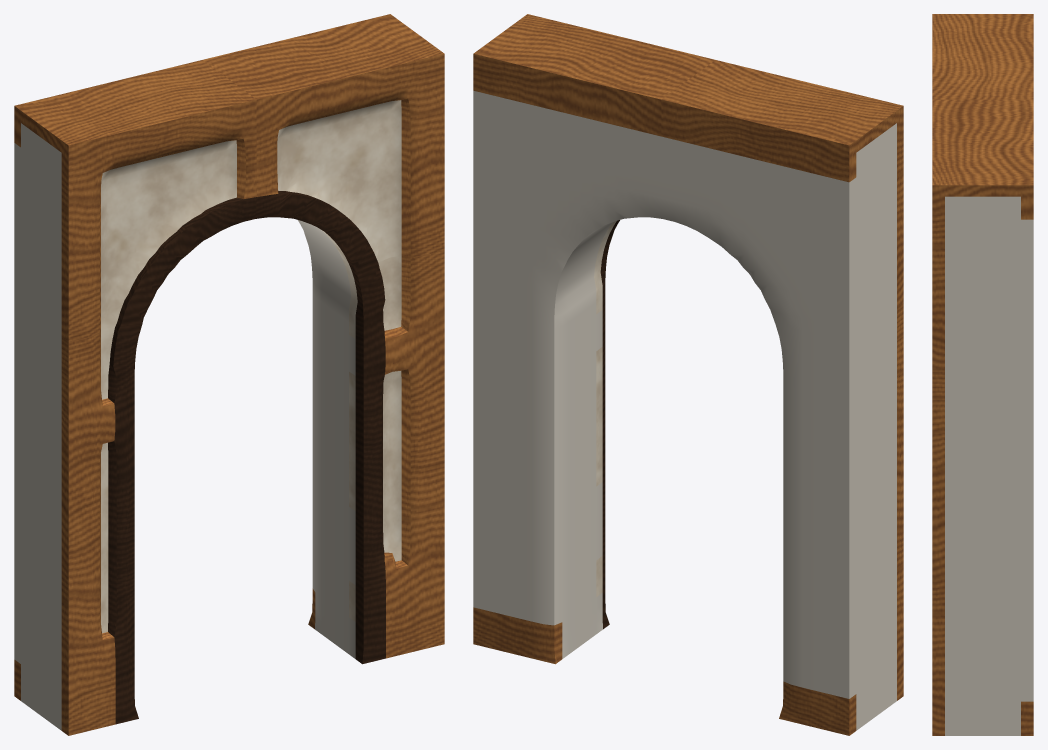
The model's file is wall_out_timber_doorway.glb.
3 views of the same model, side by side, from view 1: azimuth 30°, elevation 25°; view 2: azimuth 150°, elevation 25°; view 3: azimuth 270°, elevation 25° (orthographic). The views are drawn at different scales.
Visible parts, largest first — view 1: town_wall_out_timber_doorway; view 2: town_wall_out_timber_doorway; view 3: town_wall_out_timber_doorway.
Part boxes in pixels (x1,y1,x2,y2): town_wall_out_timber_doorway: [14, 14, 444, 735]; town_wall_out_timber_doorway: [473, 14, 903, 735]; town_wall_out_timber_doorway: [932, 14, 1033, 735].
Bounding box in the file's own units: 1 × 1.5 × 0.25.
2 materials, 1 textured.
